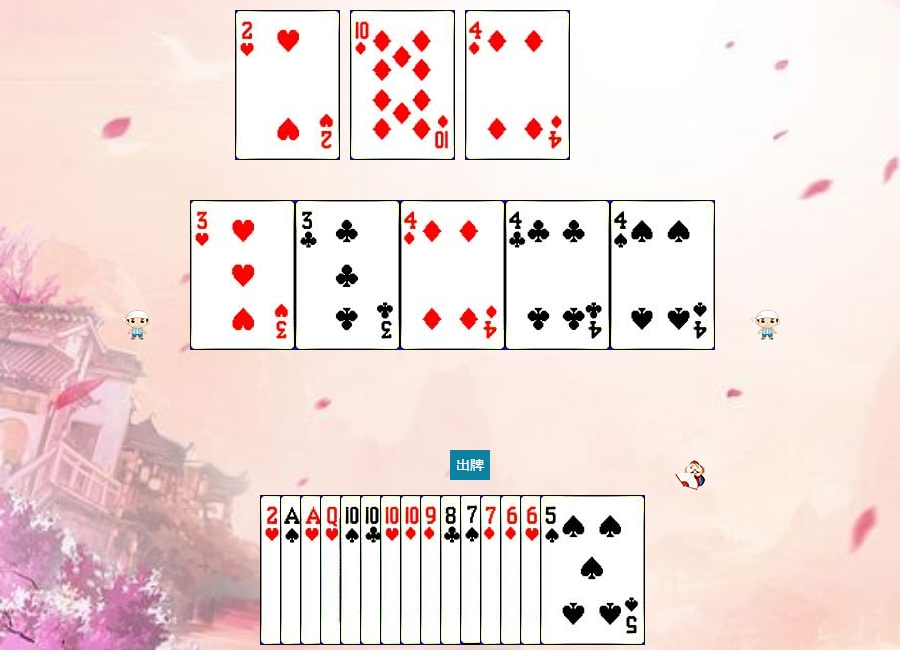10~1: (350, 10, 455, 160), (400, 495, 505, 645)
10~2: (360, 495, 465, 645)
10~3: (380, 495, 485, 645)
10~4: (340, 495, 445, 645)
12~3: (320, 495, 425, 645)
14~3: (300, 495, 405, 645)
14~4: (280, 495, 385, 645)
15~3: (235, 10, 340, 160), (260, 495, 365, 645)
3~2: (295, 200, 400, 350)
3~3: (190, 200, 295, 350)
4~1: (465, 10, 570, 160), (400, 200, 505, 350)
4~2: (505, 200, 610, 350)
4~4: (610, 200, 715, 350)
5~4: (540, 495, 645, 645)
6~1: (500, 495, 605, 645)
6~3: (520, 495, 625, 645)
7~1: (480, 495, 585, 645)
7~4: (460, 495, 565, 645)
8~2: (440, 495, 545, 645)
9~1: (420, 495, 525, 645)
